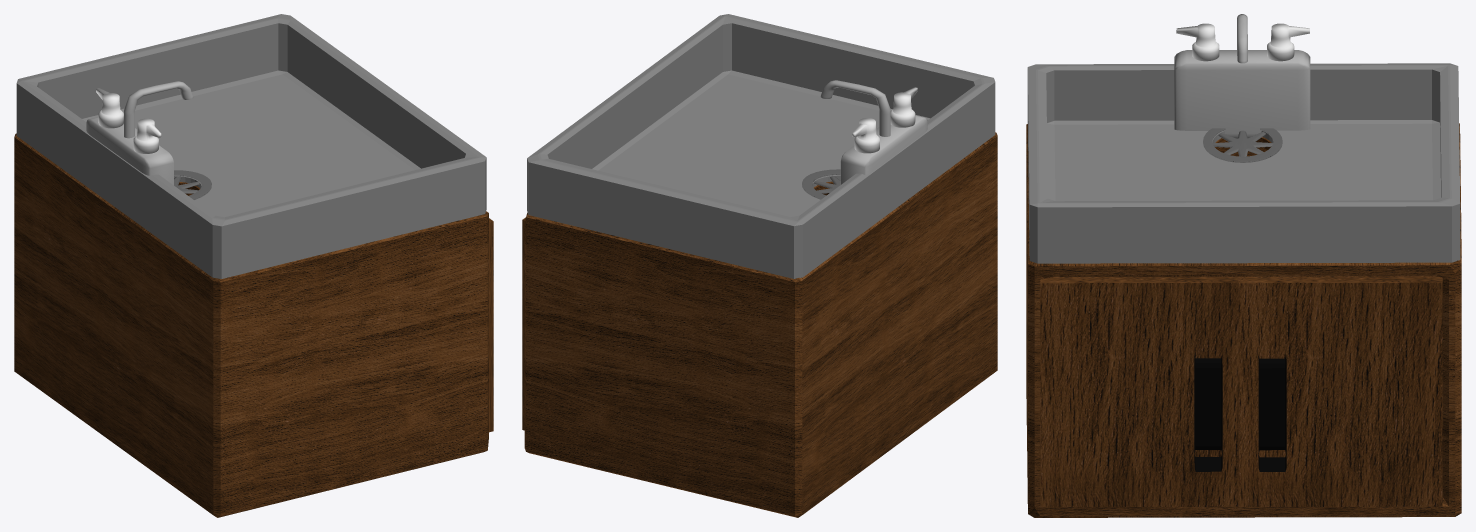
File: BROWN_KITCHEN_BASE_CABINET.glb
The picture shows the model from 3 angles, left to right: view 1: azimuth 30°, elevation 25°; view 2: azimuth 150°, elevation 25°; view 3: azimuth 270°, elevation 25°; orthographic projection. The views are drawn at different scales.
Visible parts, largest first — view 1: BODY, SINK, TAP, LEFT DOOR, RIGHT KEY, LEFT KEY, DRAIN FRANGE; view 2: BODY, SINK, TAP, LEFT KEY, RIGHT KEY, DRAIN FRANGE, RIGHT DOOR; view 3: SINK, RIGHT DOOR, LEFT DOOR, BODY, TAP, DRAIN FRANGE, LEFT KEY, RIGHT KEY.
Part boxes in pixels (<box>): BODY: <box>14,133,488,517</box>; SINK: <box>16,14,486,278</box>; TAP: <box>86,81,193,185</box>; LEFT DOOR: <box>489,218,493,432</box>; RIGHT KEY: <box>96,88,123,128</box>; LEFT KEY: <box>133,118,161,153</box>; DRAIN FRANGE: <box>174,170,211,199</box>; BODY: <box>524,132,997,517</box>; SINK: <box>527,14,995,278</box>; TAP: <box>820,80,927,184</box>; LEFT KEY: <box>890,87,917,127</box>; RIGHT KEY: <box>852,118,879,153</box>; DRAIN FRANGE: <box>802,169,840,199</box>; RIGHT DOOR: <box>522,217,525,430</box>; SINK: <box>1027,63,1460,263</box>; RIGHT DOOR: <box>1238,276,1442,507</box>; LEFT DOOR: <box>1040,276,1244,507</box>; BODY: <box>1026,123,1461,517</box>; TAP: <box>1174,14,1310,138</box>; DRAIN FRANGE: <box>1203,128,1282,162</box>; LEFT KEY: <box>1176,23,1219,61</box>; RIGHT KEY: <box>1267,23,1309,61</box>.
Bounding box in the file's own units: 0.9453 × 1.01 × 1.06.
Materials: 10 (3 with a texture image).
